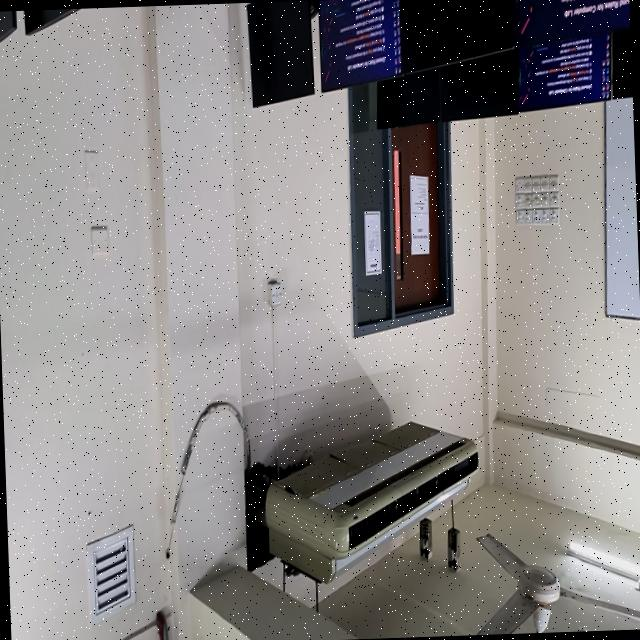Ac: (246, 422, 478, 584)
Light: (566, 541, 640, 590)
Monitor: (399, 0, 513, 73), (318, 0, 402, 91), (246, 0, 314, 107), (519, 34, 611, 110), (439, 49, 519, 120), (514, 0, 630, 46), (377, 69, 441, 128), (612, 30, 632, 98), (0, 10, 16, 42)
